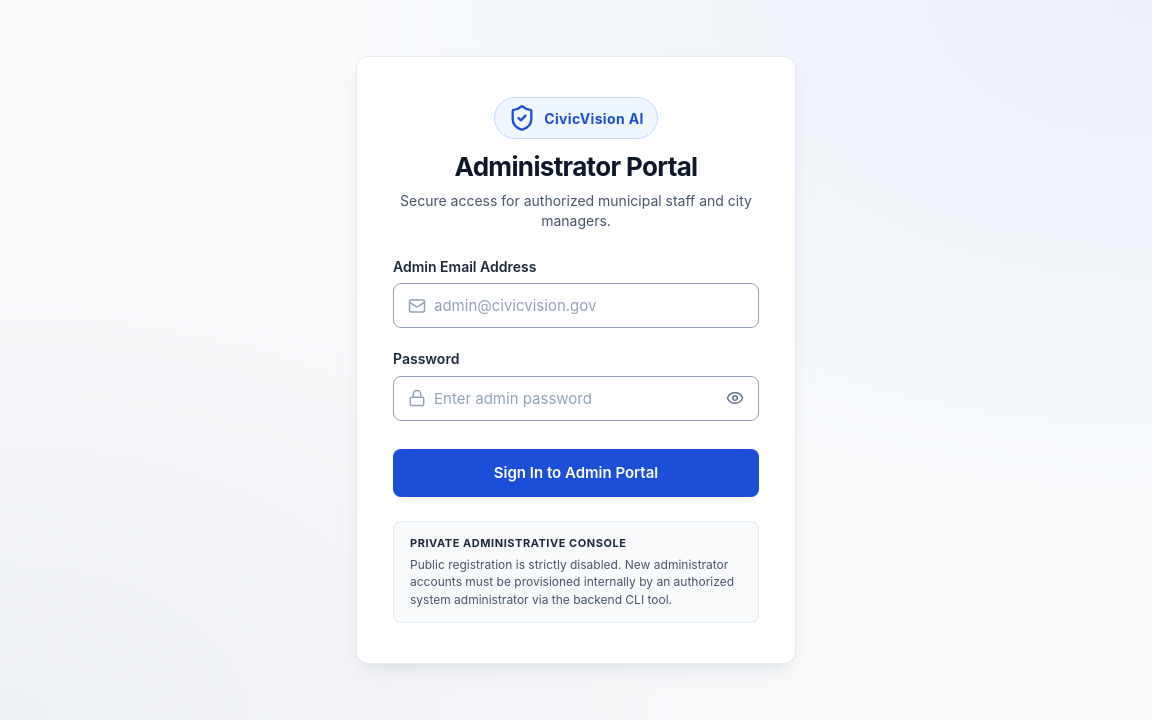
it: Admin Frontend Application Tests › 3. Invalid credentials produce a visible error alert
Step 1. Type "wrong@civicvision.gov" into the field labelled "Admin Email Address" → (576, 306), box [394,284,758,327]
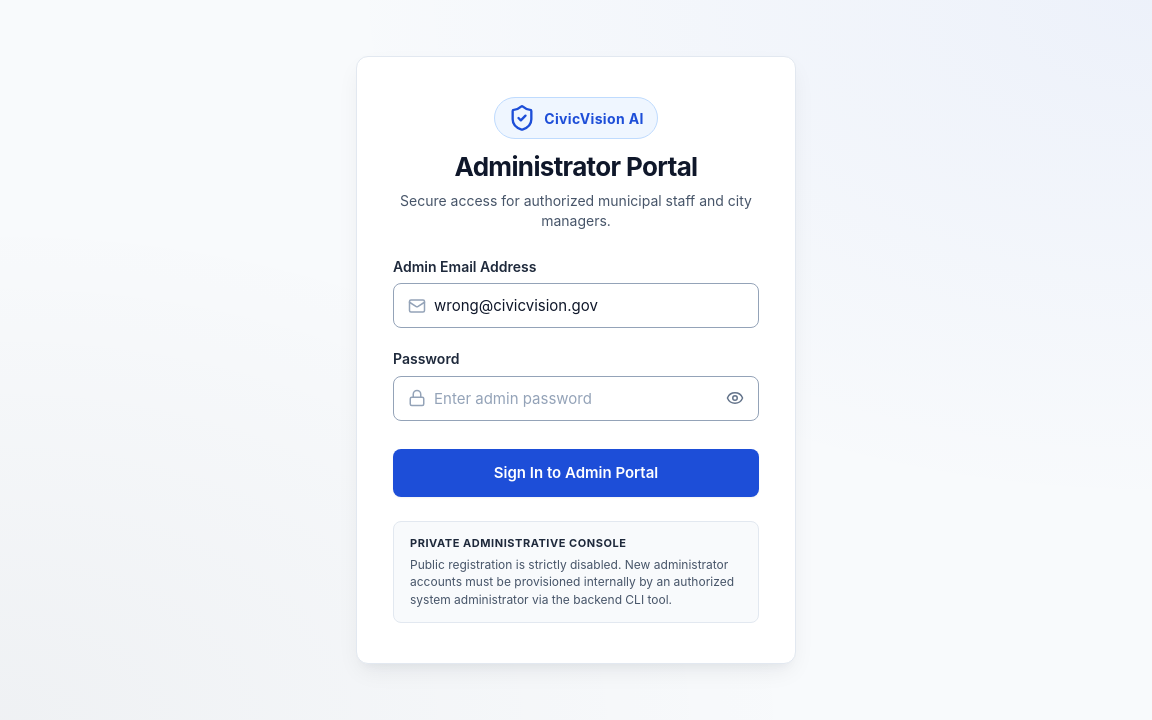
Step 2. Type "WrongPass123" into the password field labelled "Password" → (553, 398), box [394,376,713,420]
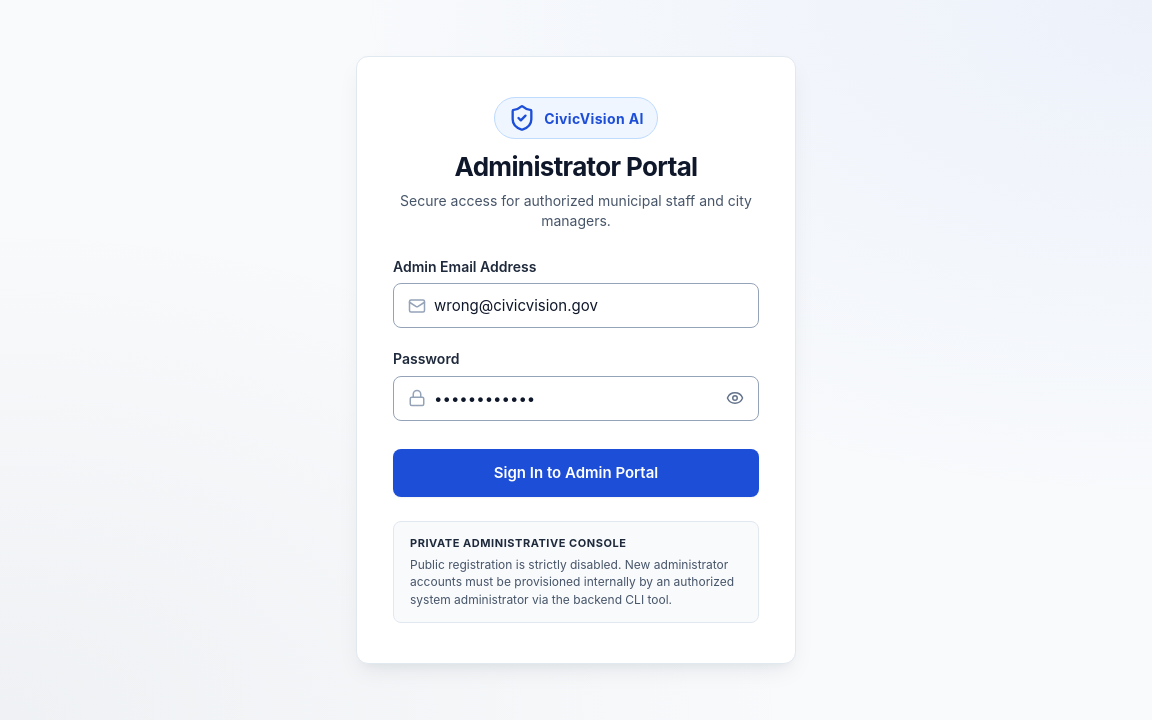
Step 3. Click the button with test id "login-submit-button" → (576, 473), box [393,448,759,497]
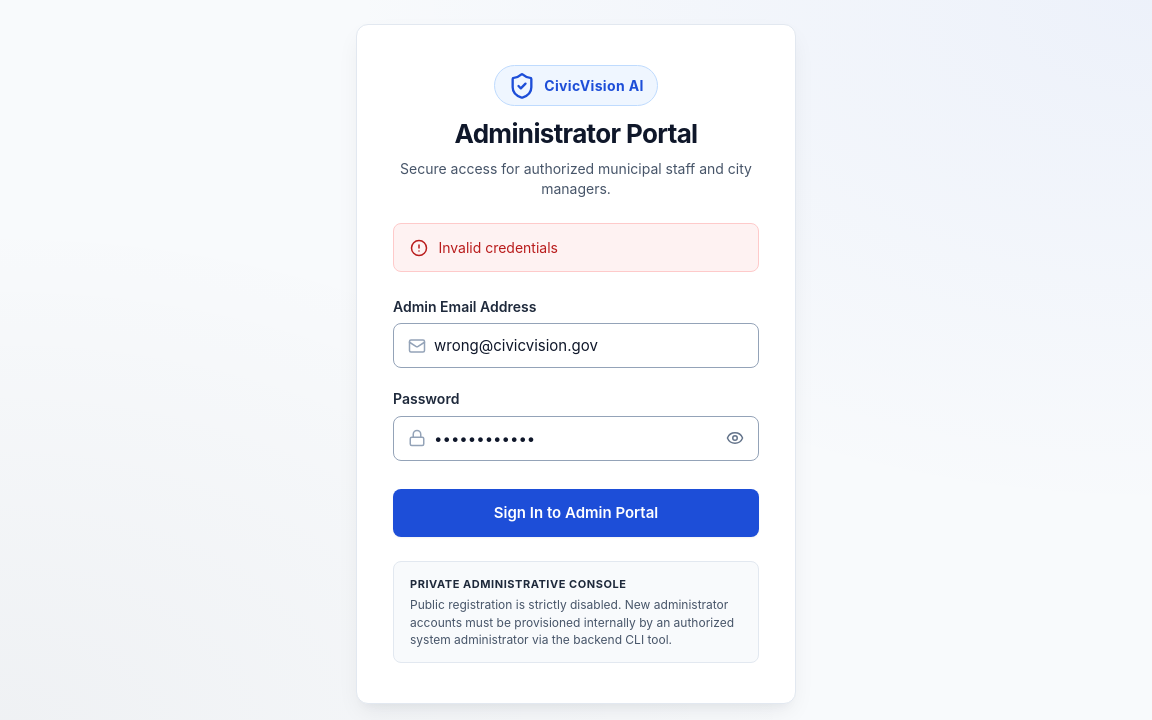
Now the message with test id "login-error-alert" reads "Invalid credentials", box [438,239,558,256]
